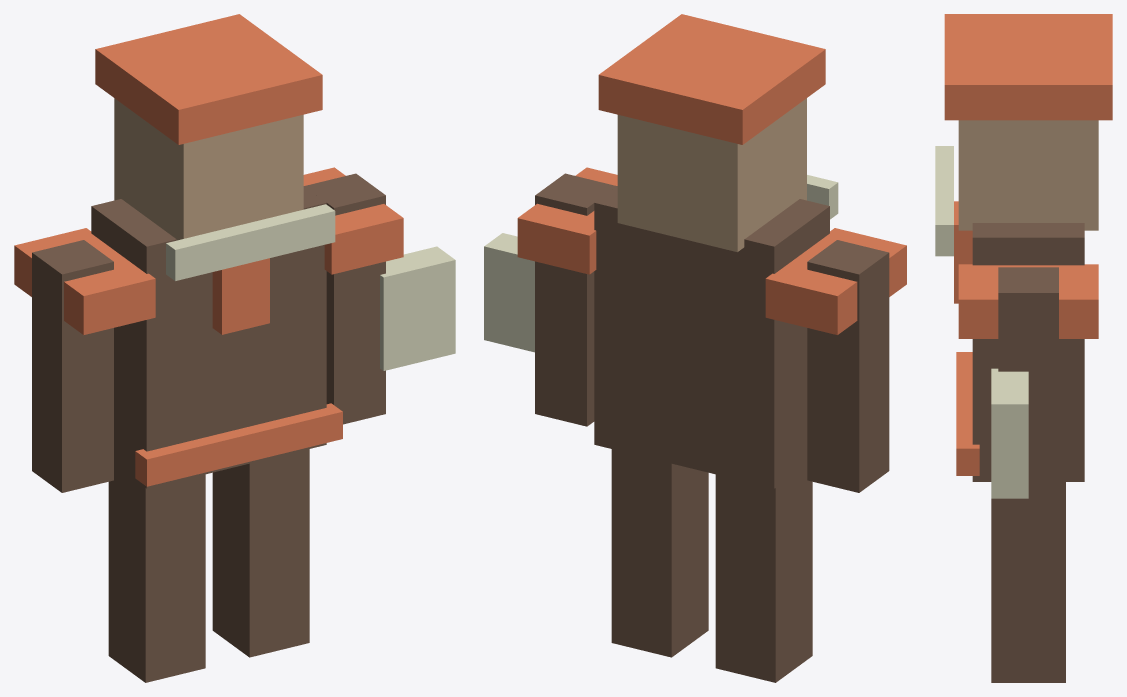
Rendered from 13_bex_gantryn_captain_under_pronunciation.glb.
The picture shows the model from 3 angles, left to right: view 1: azimuth 30°, elevation 25°; view 2: azimuth 150°, elevation 25°; view 3: azimuth 270°, elevation 25°; orthographic projection.
Parts seen in each view (by area): view 1: Bex Gantryn, Captain under Pronunciation; view 2: Bex Gantryn, Captain under Pronunciation; view 3: Bex Gantryn, Captain under Pronunciation.
Boxes of the visible parts, x1=… form: Bex Gantryn, Captain under Pronunciation: x1=14, y1=14, x2=455, y2=682; Bex Gantryn, Captain under Pronunciation: x1=484, y1=14, x2=906, y2=682; Bex Gantryn, Captain under Pronunciation: x1=935, y1=14, x2=1112, y2=682.
Bounding box in the file's own units: 1.01 × 1.45 × 0.3932.
